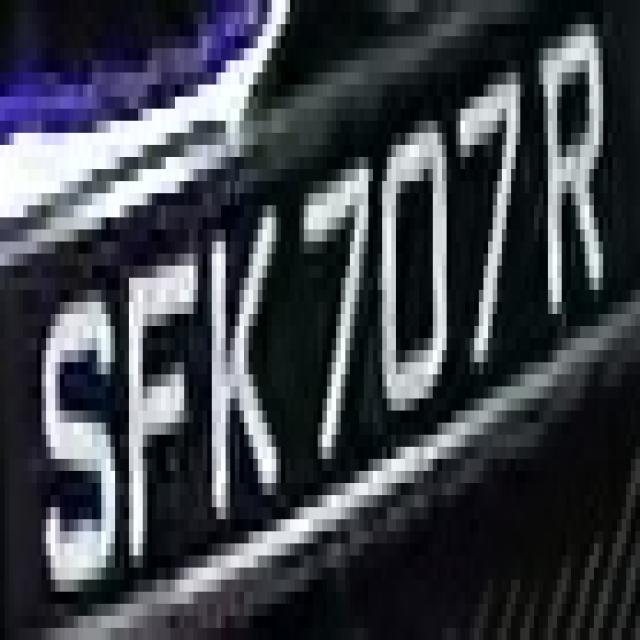0: (368, 133, 456, 435)
7: (438, 24, 530, 411), (285, 169, 373, 519)
F: (120, 217, 202, 592)
K: (193, 206, 290, 532)
R: (520, 24, 612, 314)
S: (28, 314, 120, 592)
